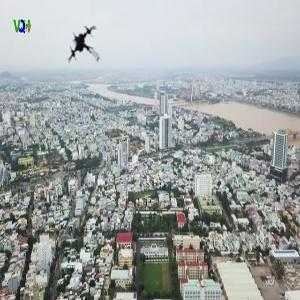drone: (62, 26, 110, 74)
